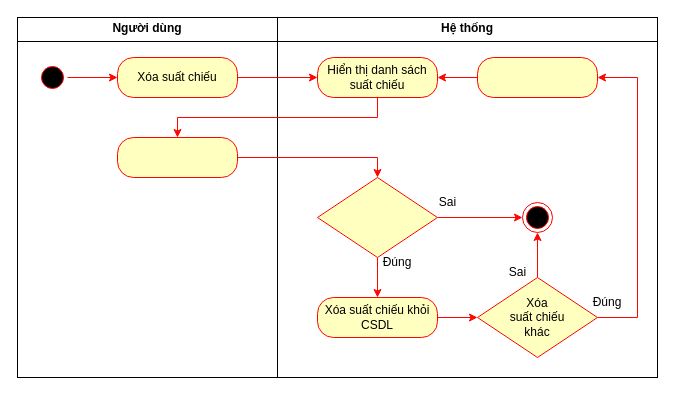
The diagram is 675 pixels wide and 395 high, and some of its shapes have lost their labels. The centre of each missing label's shape, as x and y in pixels:
"Chọn suất chiếu" goes at [177,157].
"Cập nhật danh sách suất chiếu" goes at [537,77].
"Xác nhận xóa suất chiếu" goes at [377,217].
